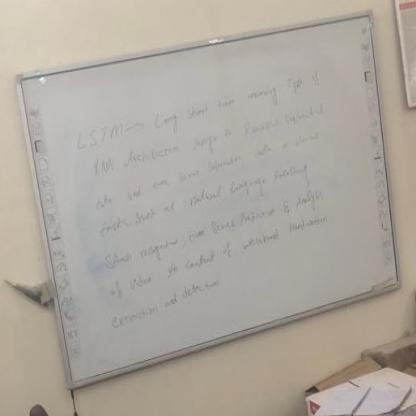Handwritten text: (63, 52, 328, 163), (92, 171, 334, 282), (102, 197, 338, 307), (83, 93, 335, 188), (86, 121, 330, 219), (89, 150, 320, 250), (102, 266, 231, 344)
Whiteboard: (11, 5, 414, 395)
